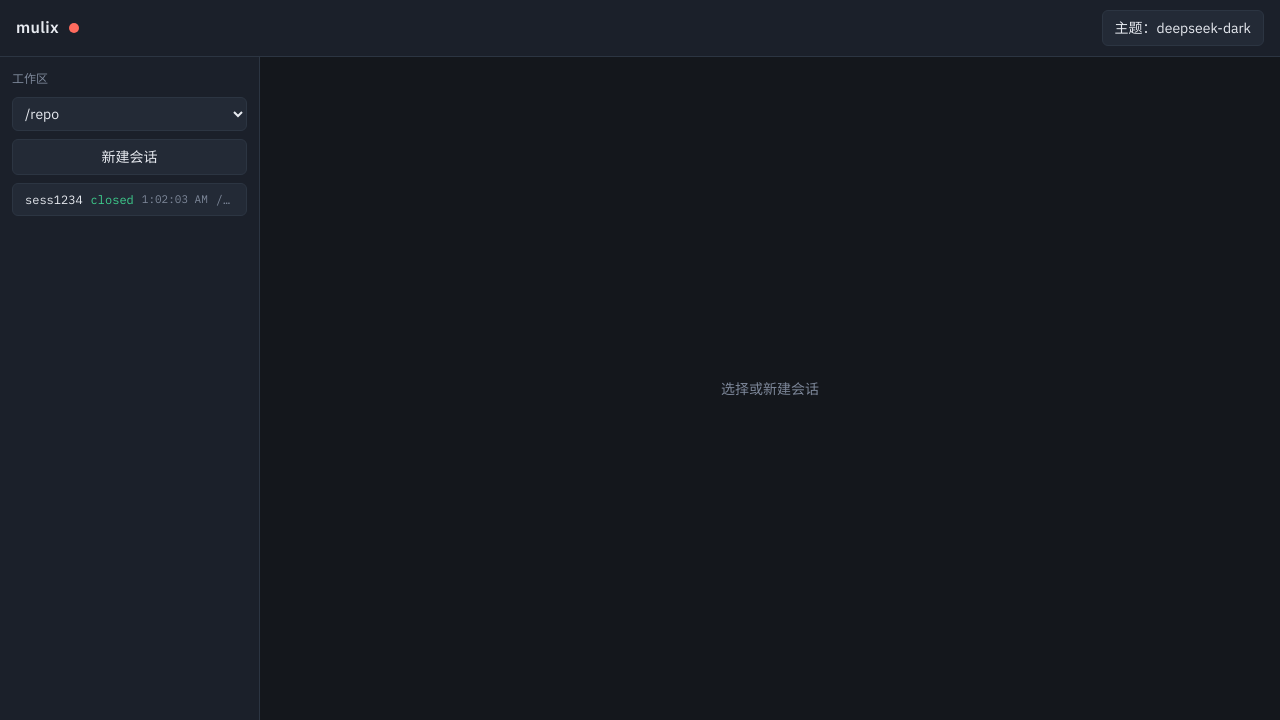
Test case: 交互面（task-12） › submit 403 → 只读横幅（评审 C1/M2：交互权丢失可观测）
Click the button "sess1234 closed 1:02:03 AM /repo": (130,200) [12, 183, 247, 216]
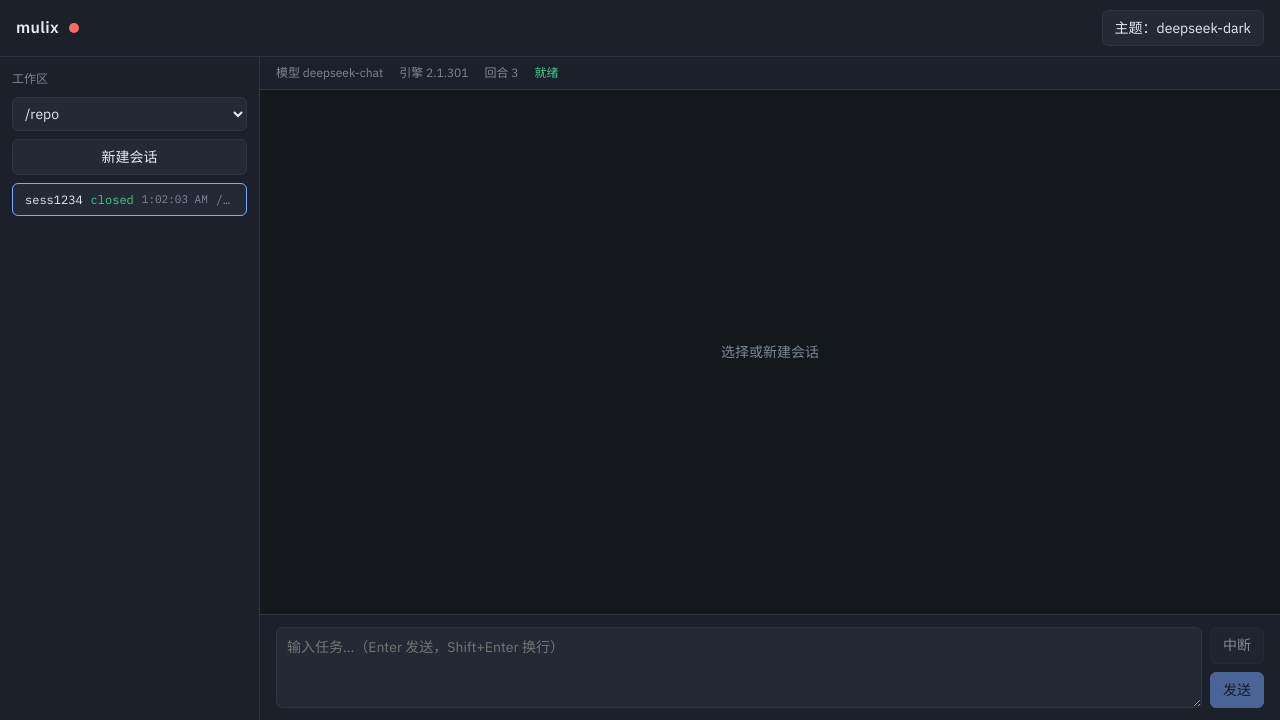
In the text box: (739,668) [276, 627, 1202, 708], type "降级前的输入"
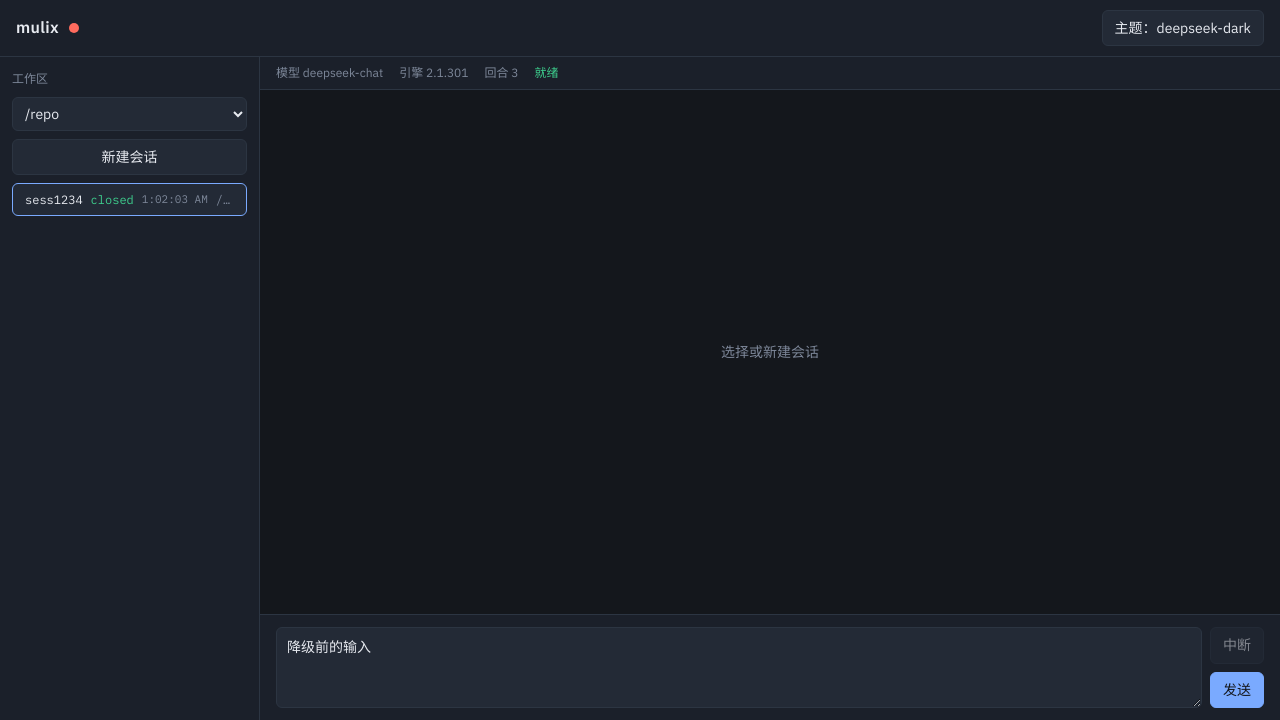
Click the button "发送": (1237,690) [1210, 672, 1264, 708]
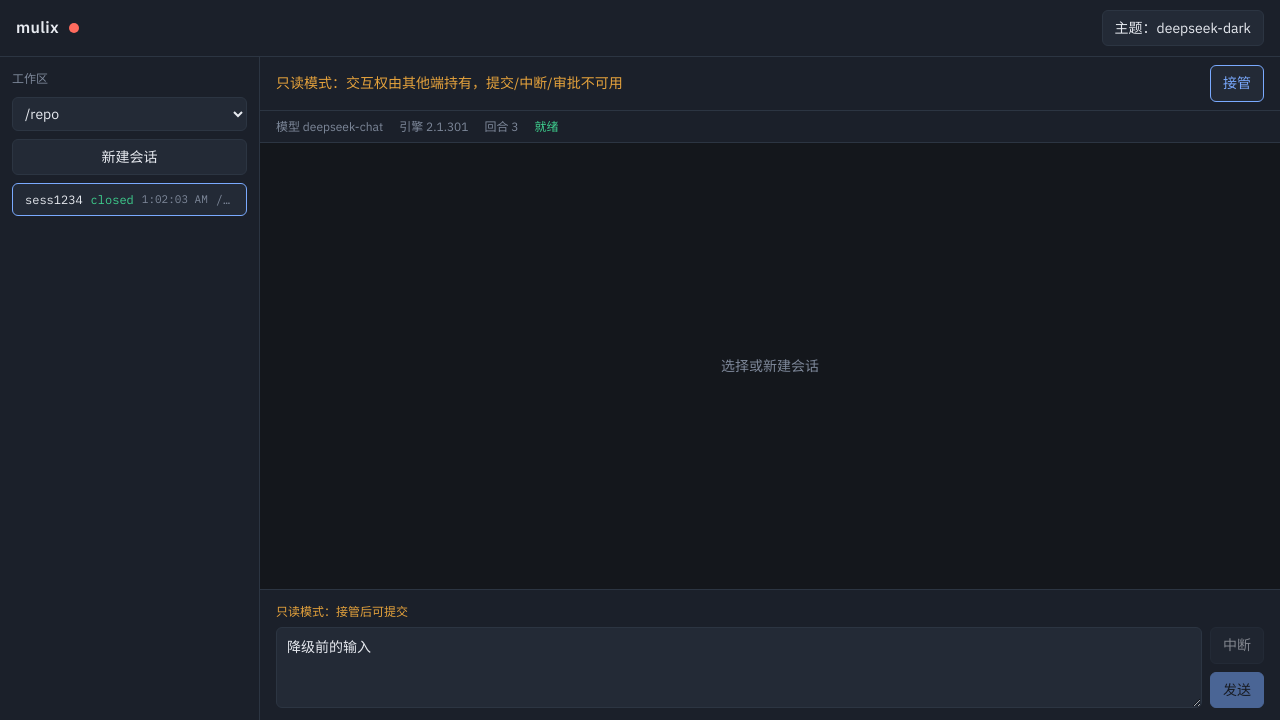
Check: the text box is disabled, box [276, 627, 1202, 708]
Check: the message "只读模式：交互权由其他端持有，提交/中断/审批不可用 接管" is shown, box [260, 57, 1279, 111]
Click the button "接管": (1237,84) [1210, 65, 1264, 102]
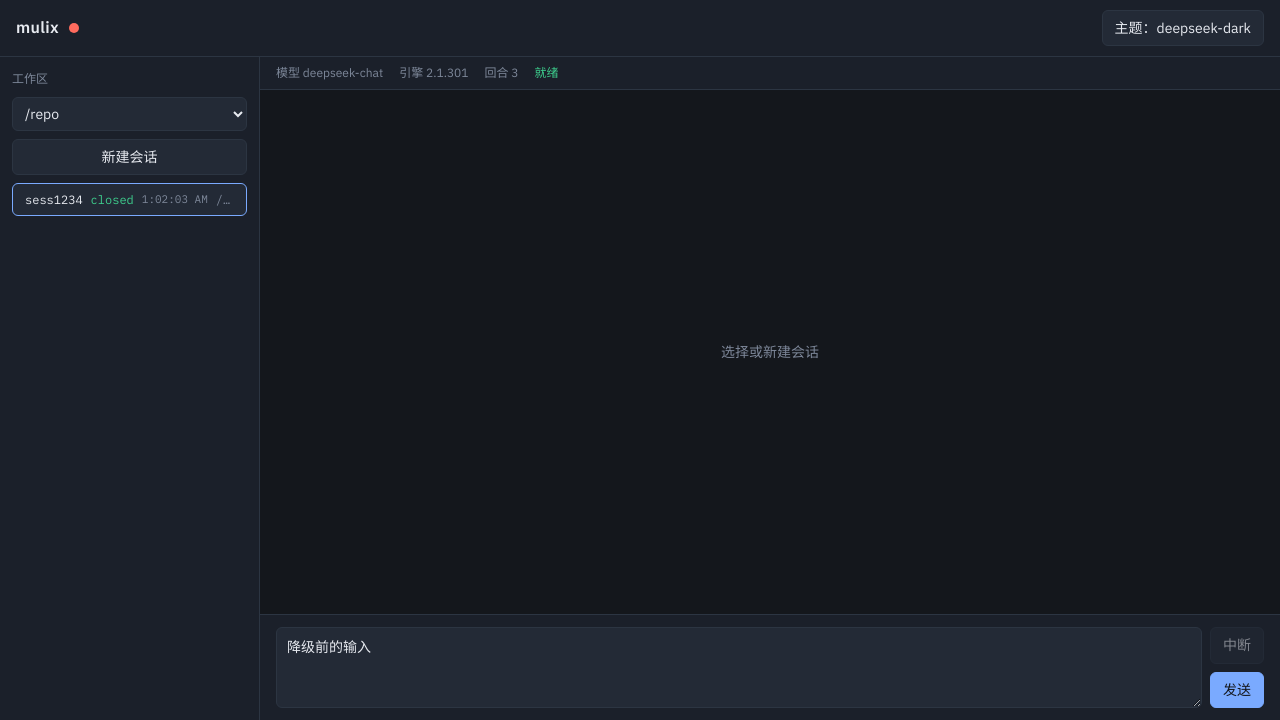
Check: the text box is enabled, box [276, 627, 1202, 708]
Check: the message "只读模式：交互权由其他端持有，提交/中断/审批不可用 接管" is gone
